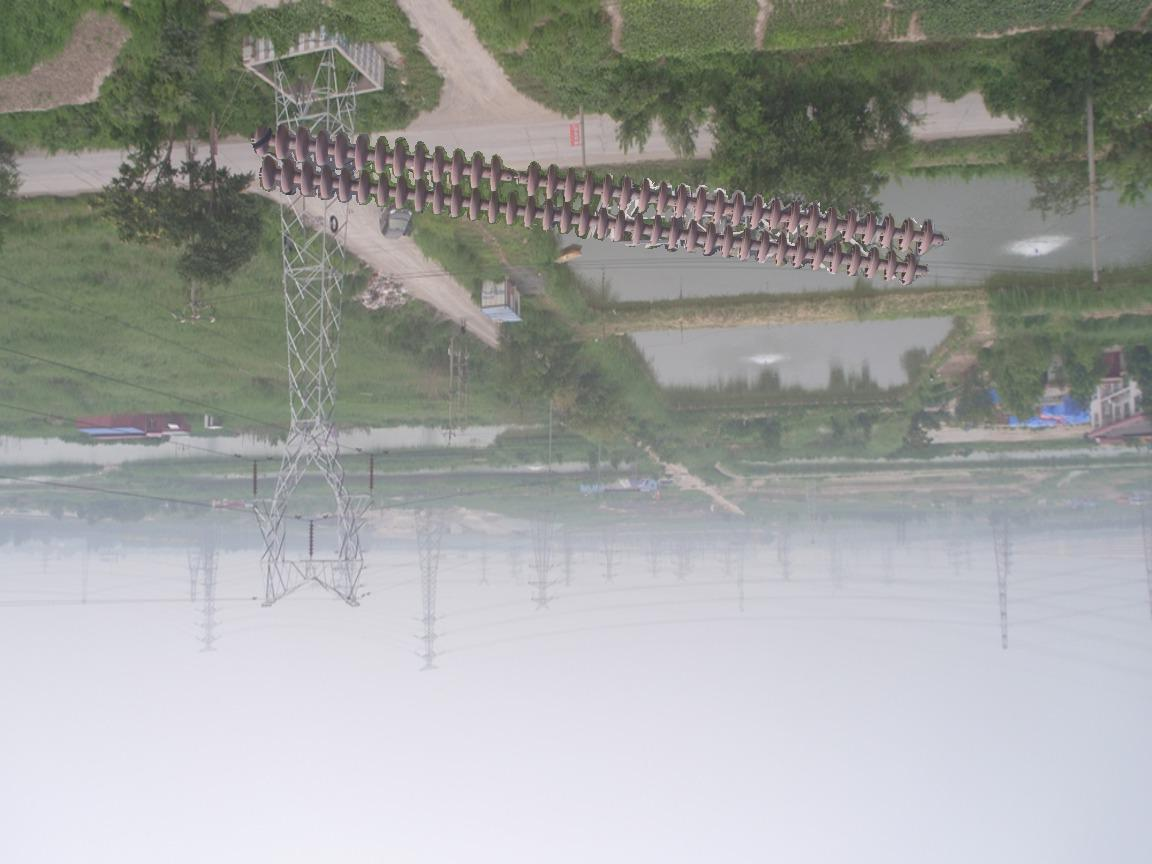insulator: (250, 115, 942, 293)
insulator_stringdrop: (484, 151, 543, 200)
